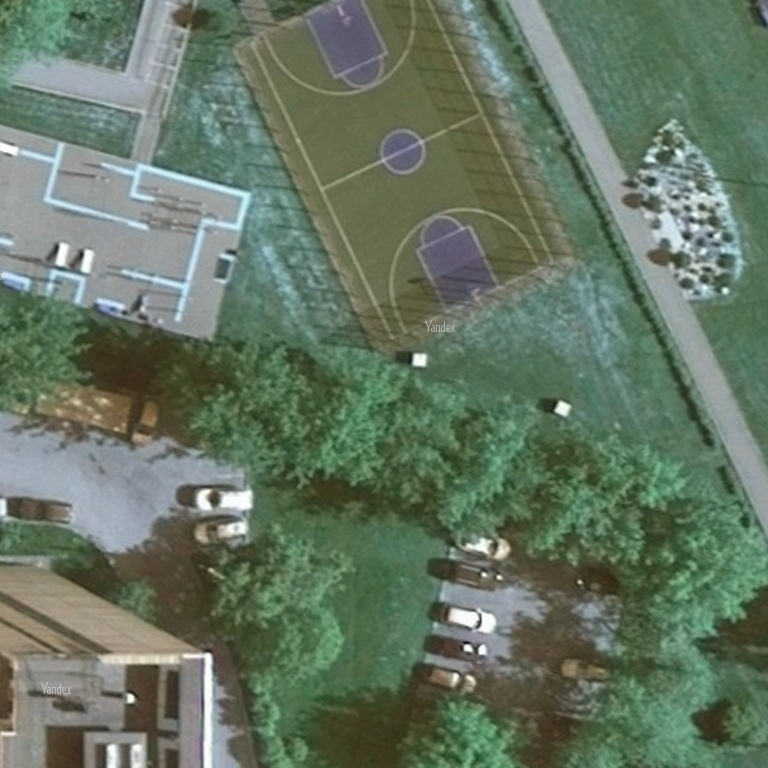basket_court: (223, 2, 580, 357)
